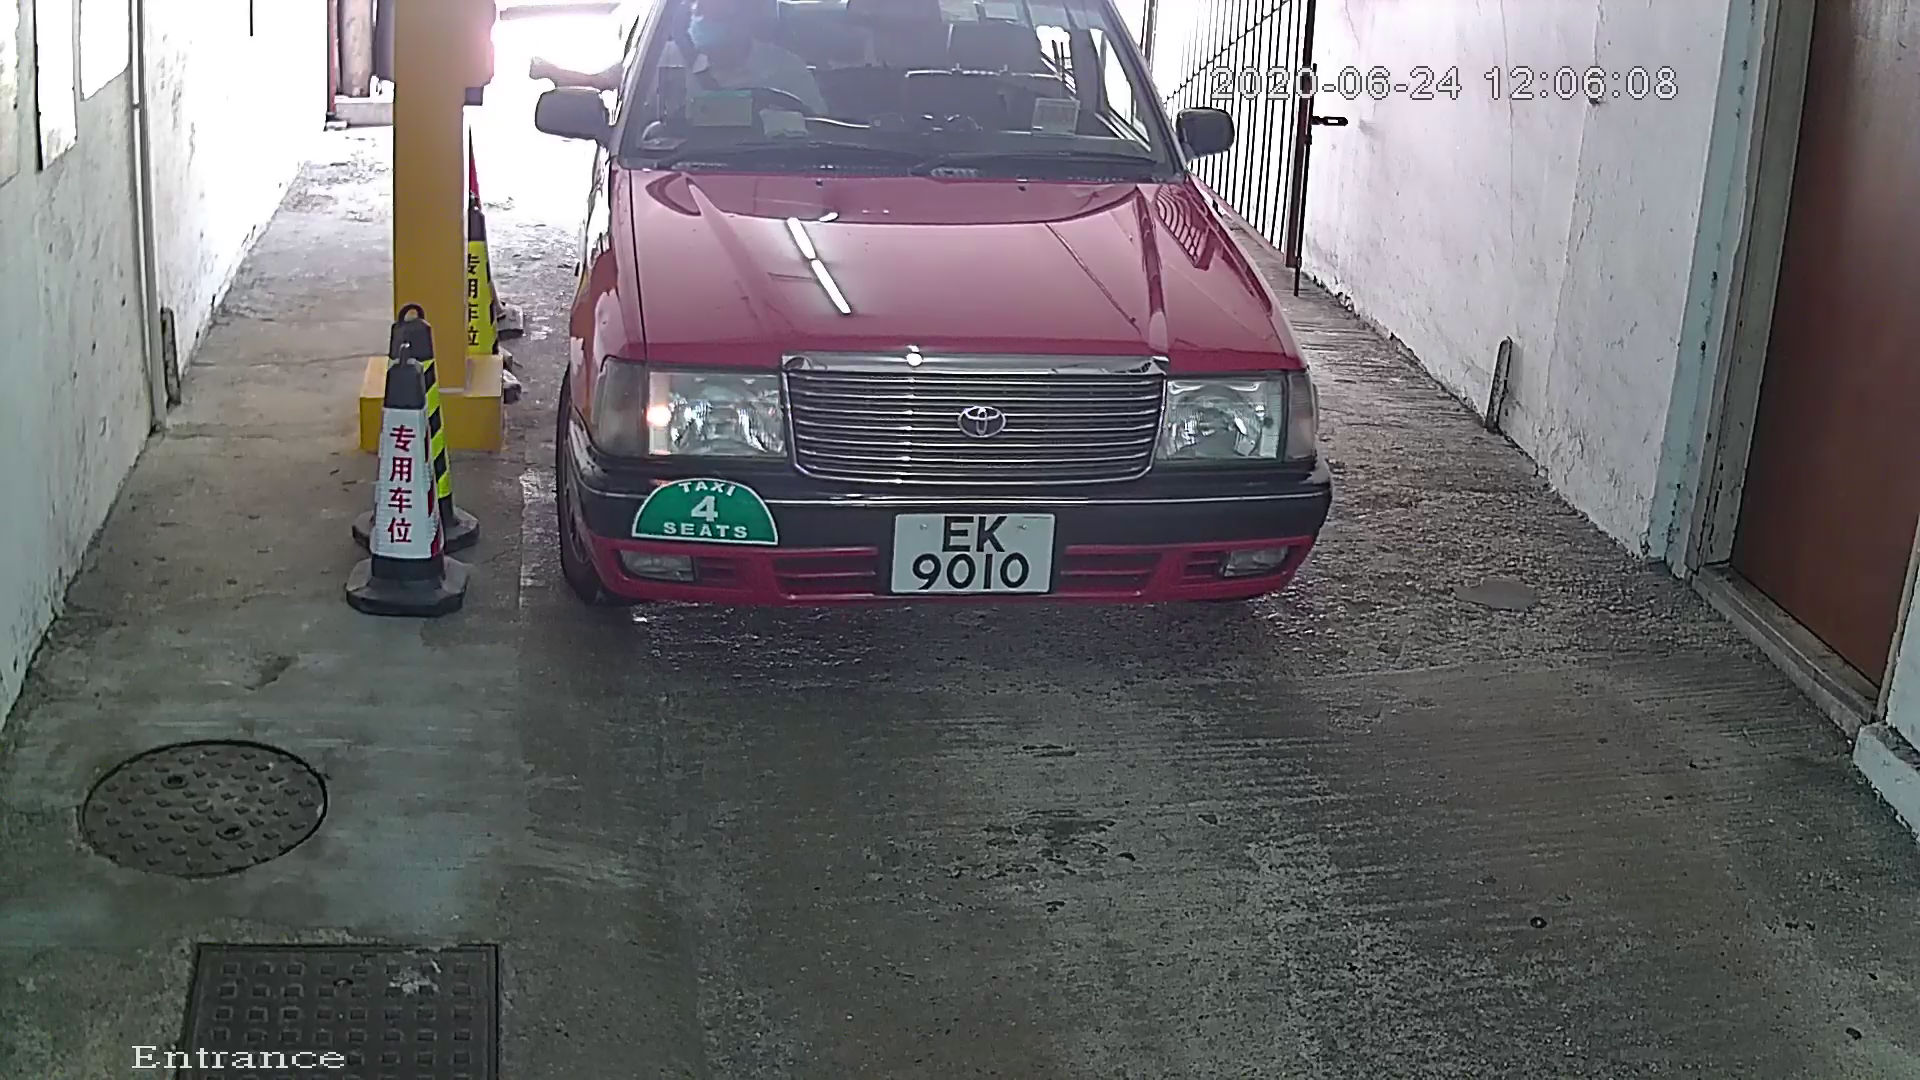Car: (511, 1, 1340, 708)
License Plate: (872, 486, 1065, 626)
